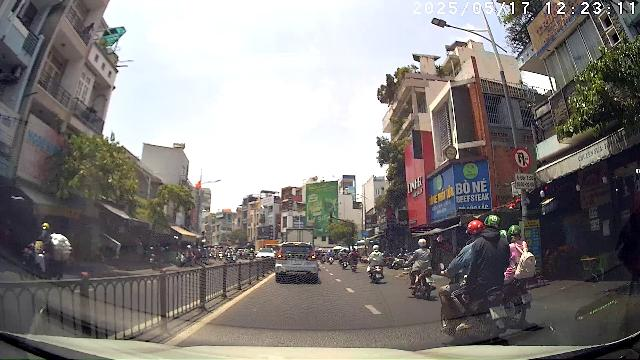124b-cam-oto-quay-dau-xe: (512, 147, 532, 170)
